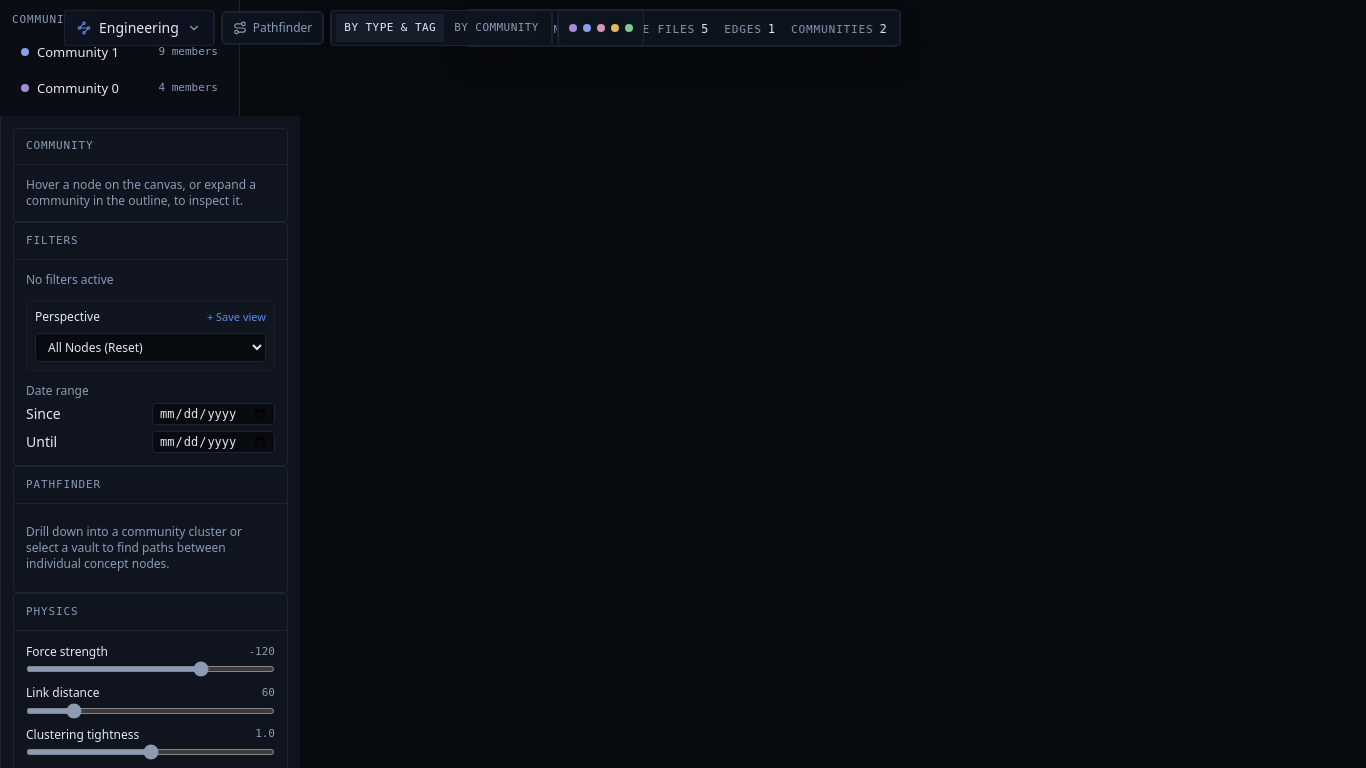
Test: ScopePicker inside GraphCanvas (#712) › Vault settings and + New vault are reachable from the open list
Click the button "Engineering". click: (139, 28)
box: [64,10,214,46]
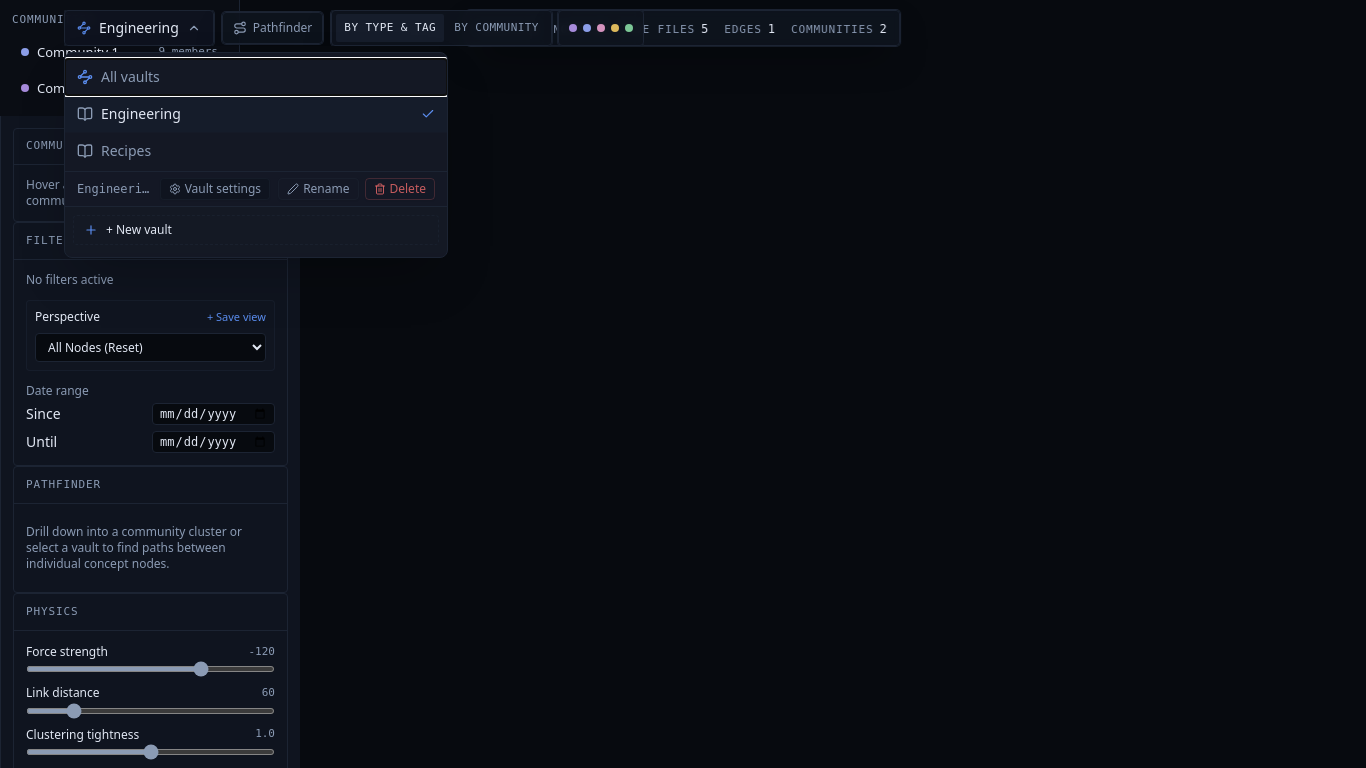
Expected: the button "Engineering" is expanded, [64,10,214,46]
